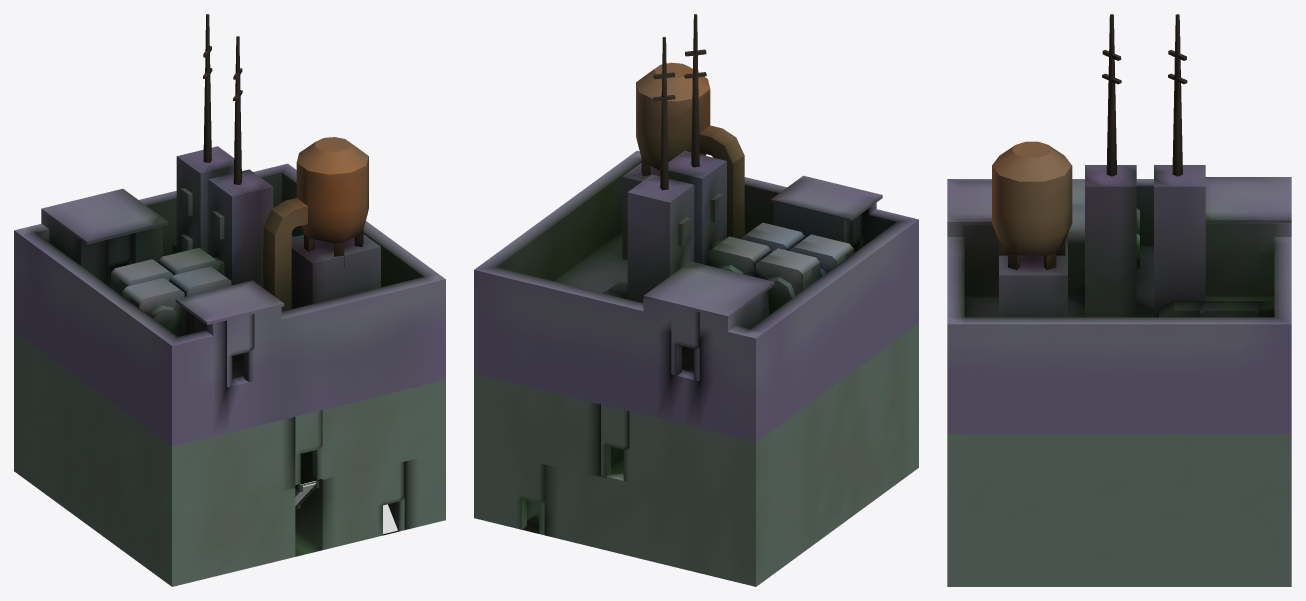
The picture shows the model from 3 angles, left to right: view 1: azimuth 30°, elevation 25°; view 2: azimuth 150°, elevation 25°; view 3: azimuth 270°, elevation 25°; orthographic projection. The views are drawn at different scales.
Visible parts, largest first — view 1: two tower roof01, cross steamtunnel, metal_b; view 2: two tower roof01, cross steamtunnel, metal_b; view 3: two tower roof01, cross steamtunnel, metal_b.
Boxes of the visible parts, x1,y1,x2,y2 form: two tower roof01: (14,146,445,446); cross steamtunnel: (14,331,445,586); metal_b: (111,14,368,510); two tower roof01: (474,150,918,442); cross steamtunnel: (474,323,918,586); metal_b: (603,14,853,315); two tower roof01: (947,165,1291,433); cross steamtunnel: (947,434,1291,586); metal_b: (992,14,1274,317).
Bounding box in the file's own units: 20 × 32.39 × 20.
